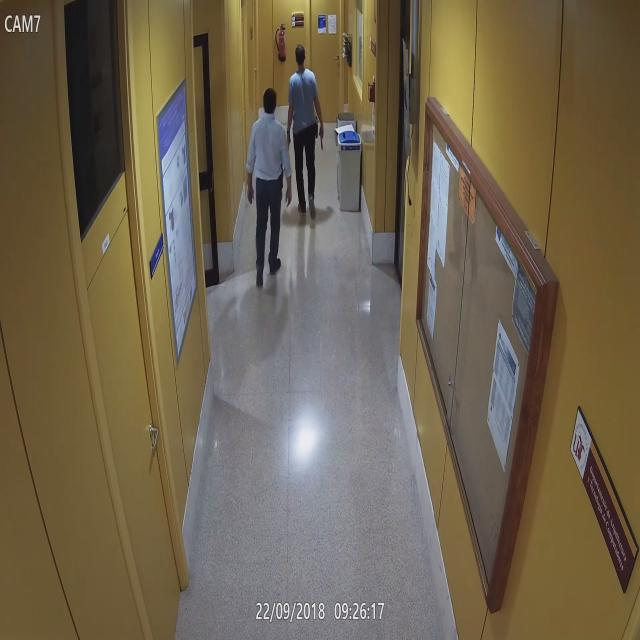Gun: (277, 159, 286, 189), (317, 123, 326, 149)
